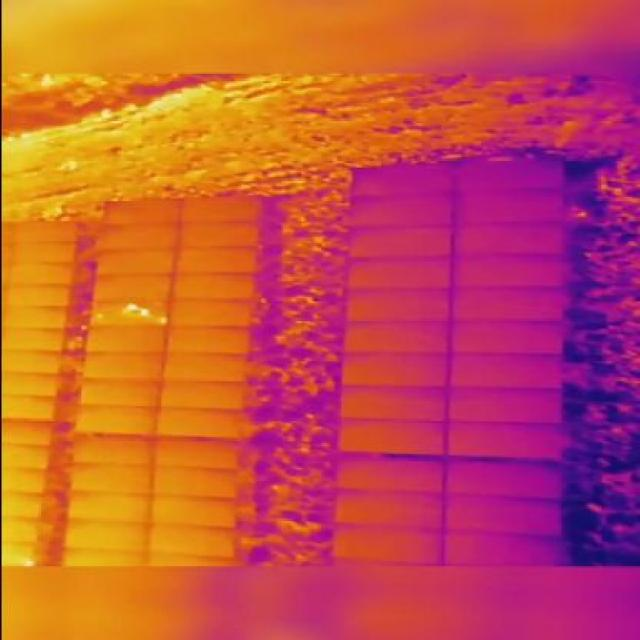hotspot: (120, 301, 135, 313), (136, 307, 150, 318), (156, 318, 164, 324)
